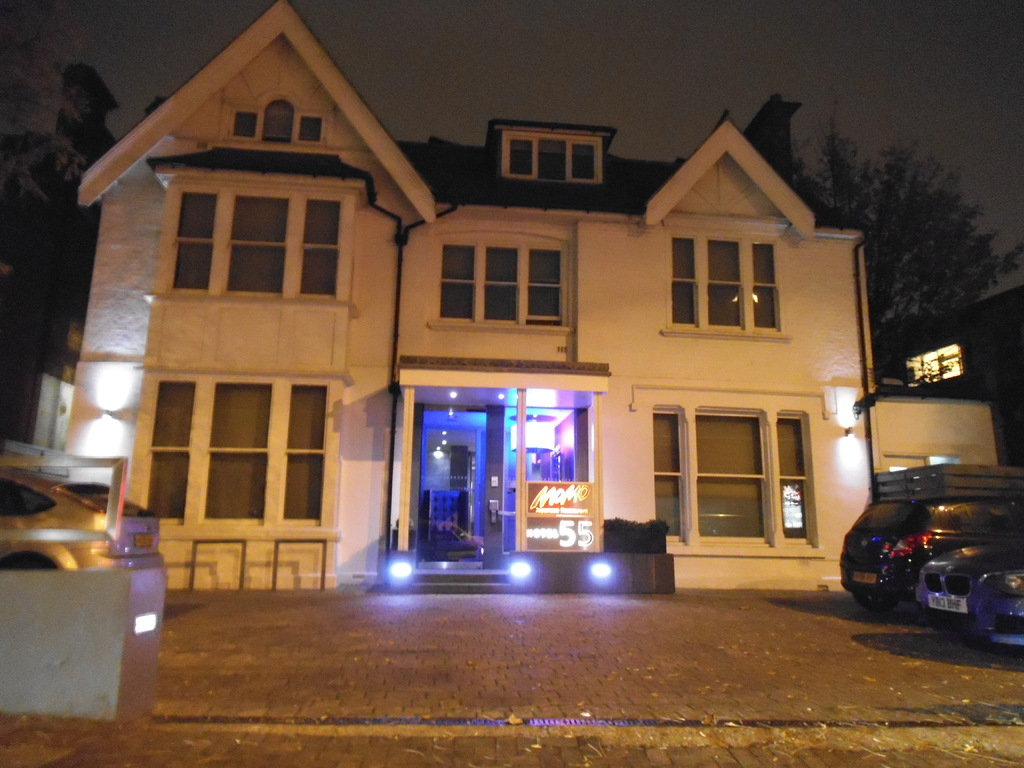Car: (1, 461, 165, 604), (837, 500, 1023, 612), (914, 537, 1023, 643)
